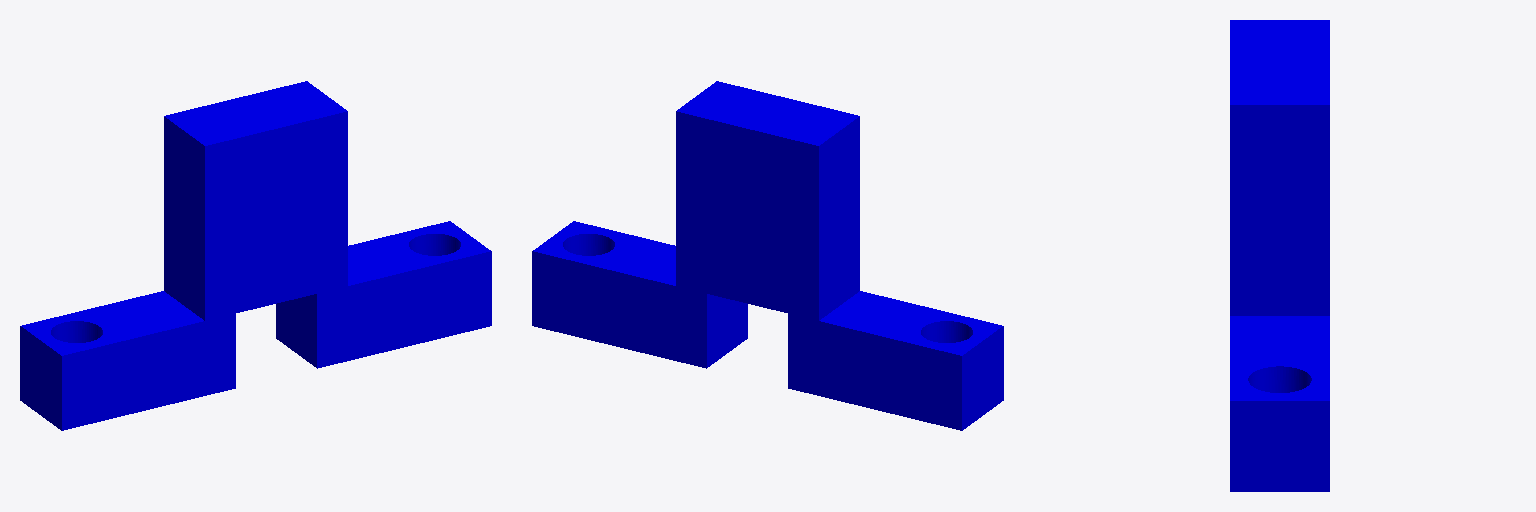
robot.urdf — board2_block3:
<?xml version="1.0"?>
<robot name="board2_block3">
    <link name="board2_block3">
        <visual>
            <origin xyz="0 0 0 " rpy=" 0 0 0"/>
            <geometry>
                <mesh filename="./MOMO_Board2_Block3.stl" scale="0.001 0.001 0.001"/>
            </geometry>
            <material name="red">
                <color rgba="0.0 0.0 1.0 1.0"/>
            </material>
        </visual>
        <collision>
            <origin xyz="0 0 0" rpy="0 0 0"/>
            <geometry>
                <mesh filename="./MOMO_Board2_Block3.stl" scale="0.001 0.001 0.001"/>
            </geometry>
        </collision>
    </link>
</robot>

--- Render facts (derived) ---
The picture shows the robot from 3 angles, left to right: view 1: azimuth 30°, elevation 25°; view 2: azimuth 150°, elevation 25°; view 3: azimuth 270°, elevation 25°; orthographic projection.
Model board2_block3 with 1 links and 0 joints (none), rooted at board2_block3, posed all joints at 0.
Visible links, largest first — view 1: board2_block3; view 2: board2_block3; view 3: board2_block3.
Boxes of the visible links, left/top/right/bottom form: board2_block3: left=20, top=81, right=491, bottom=430; board2_block3: left=532, top=81, right=1003, bottom=430; board2_block3: left=1230, top=20, right=1329, bottom=491.
Size in the robot's own frame: 0.18 by 0.03 by 0.1 metres.
Meshes: 1 distinct files referenced, 1 mesh visuals loaded (1 ASCII STL).